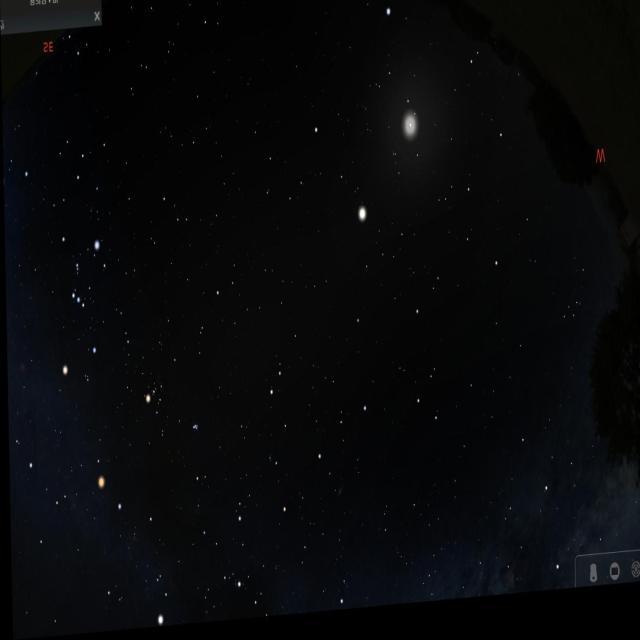moon: (388, 96, 430, 163)
orion: (44, 222, 109, 386)
pleiades: (182, 413, 204, 450)
taurus: (138, 353, 209, 452)
